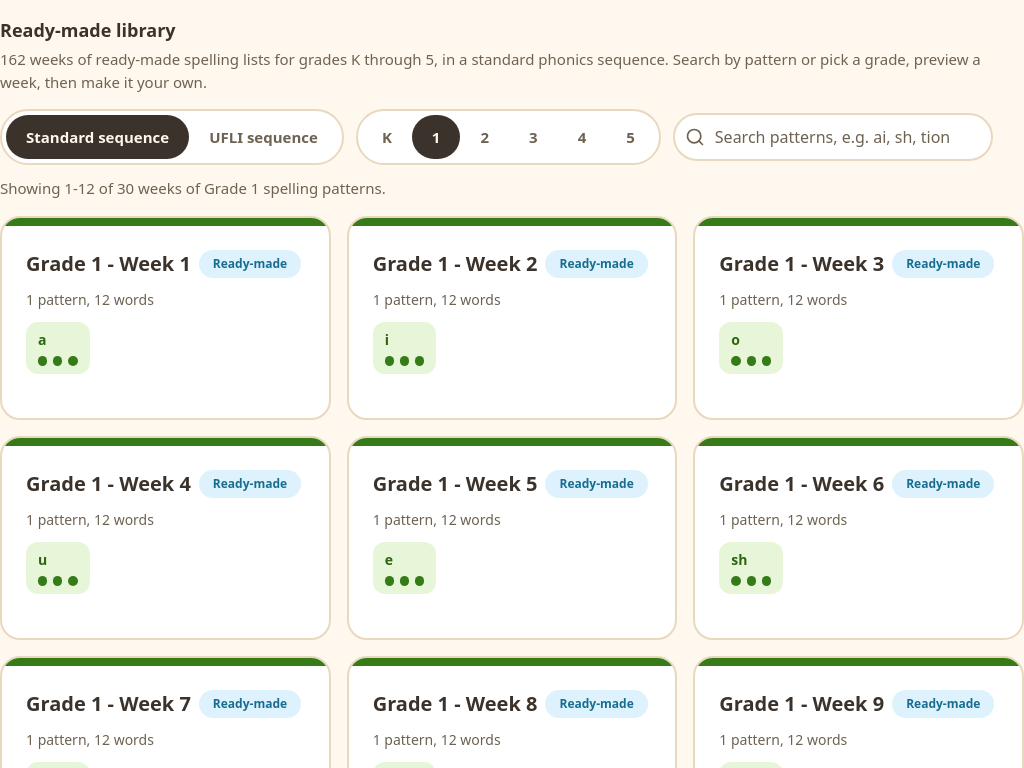
Test: PrebuiltLibrarySection › clears the search with the clear button
In the field named "Search ready-made lists by pattern": [833, 137] box [673, 113, 993, 161], type "tion"
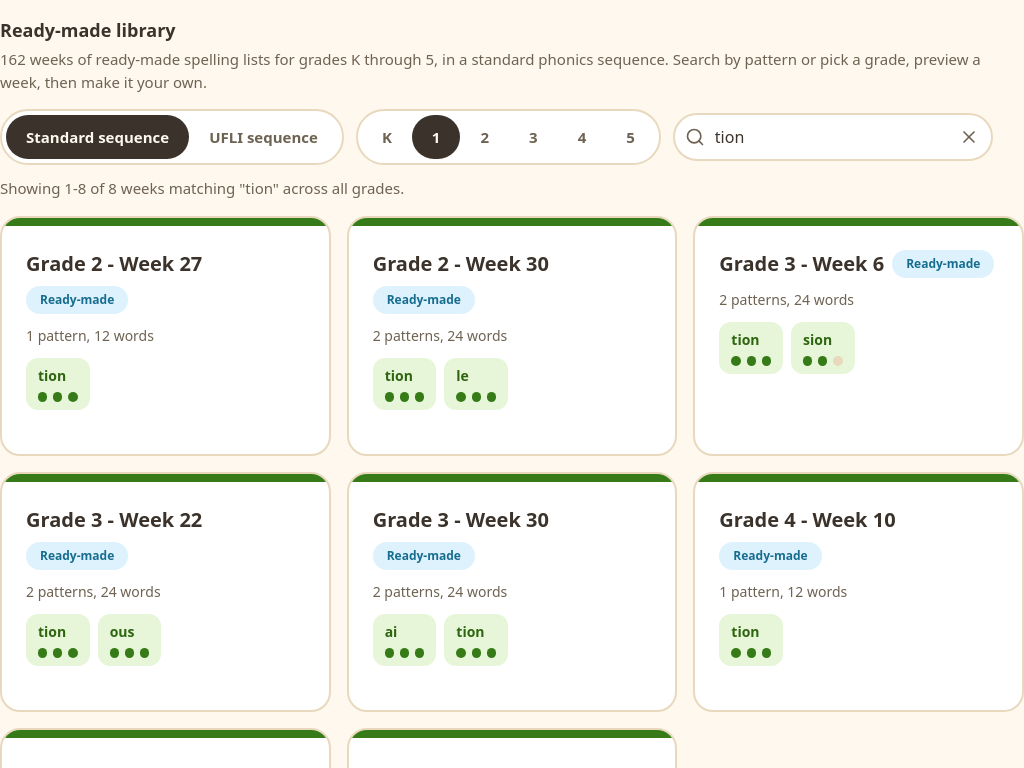
Click the button named "Clear pattern search": [969, 137] box [951, 119, 987, 155]
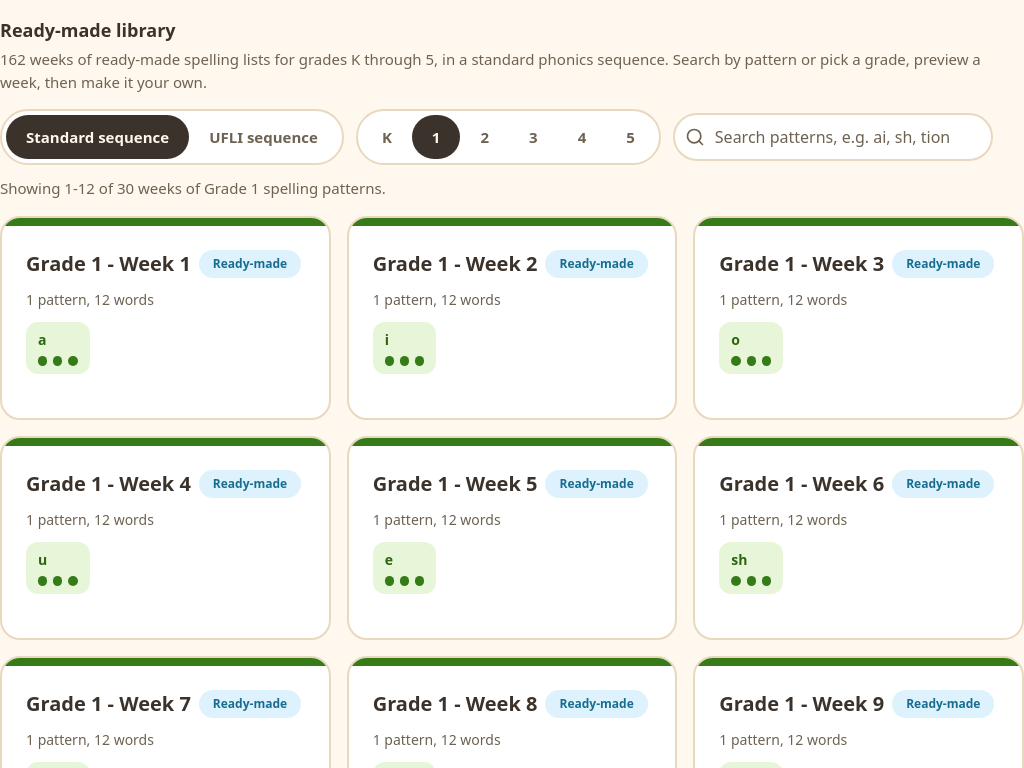
Expected: the field named "Search ready-made lists by pattern" is empty, [673, 113, 993, 161]
Expected: the text "Showing 1-12 of 30 weeks of Grade 1 spelling patterns." is shown, [0, 178, 386, 198]
